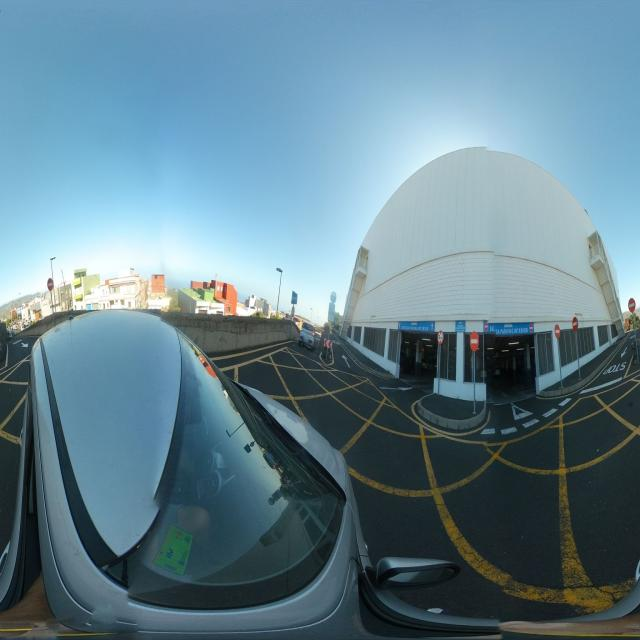car: (2, 295, 394, 640), (298, 326, 314, 350)
